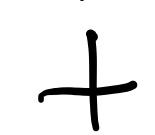plus: (38, 29, 138, 131)
